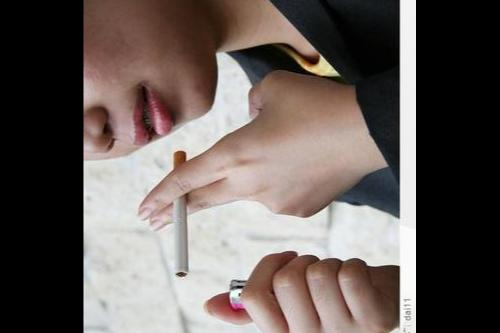Cigarette: (170, 150, 190, 276)
